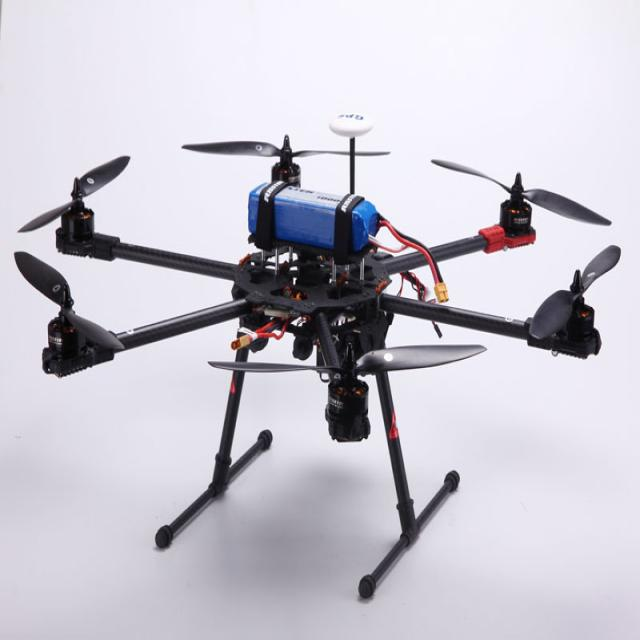drone: (4, 96, 640, 559)
